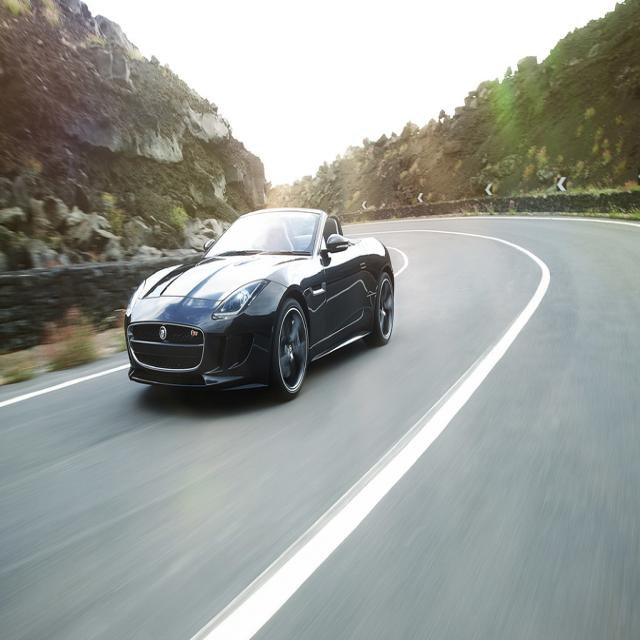car: (124, 208, 394, 399)
